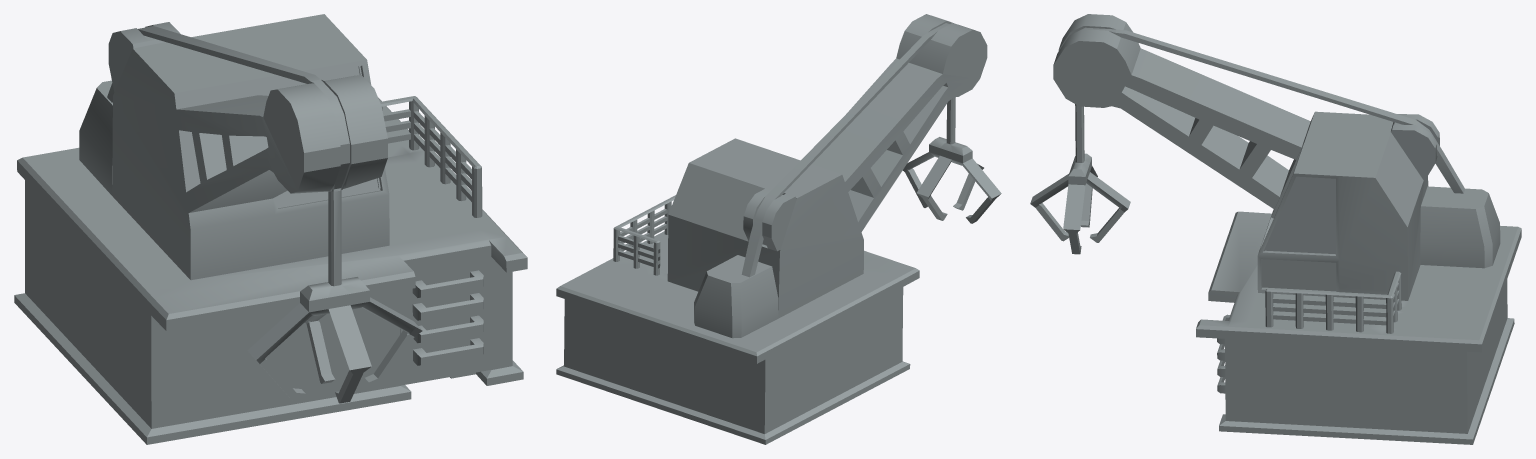
File: Crane.fbx
3 views of the same model, side by side, from view 1: azimuth 30°, elevation 25°; view 2: azimuth 150°, elevation 25°; view 3: azimuth 270°, elevation 25° (orthographic). The views are drawn at different scales.
Visible parts, largest first — view 1: Crane; view 2: Crane; view 3: Crane.
Boxes of the visible parts, x1,y1,x2,y2 form: Crane: (14,14,527,444); Crane: (556,14,1001,444); Crane: (1030,14,1521,444).
Bounding box in the file's own units: 719 × 716 × 1045.
